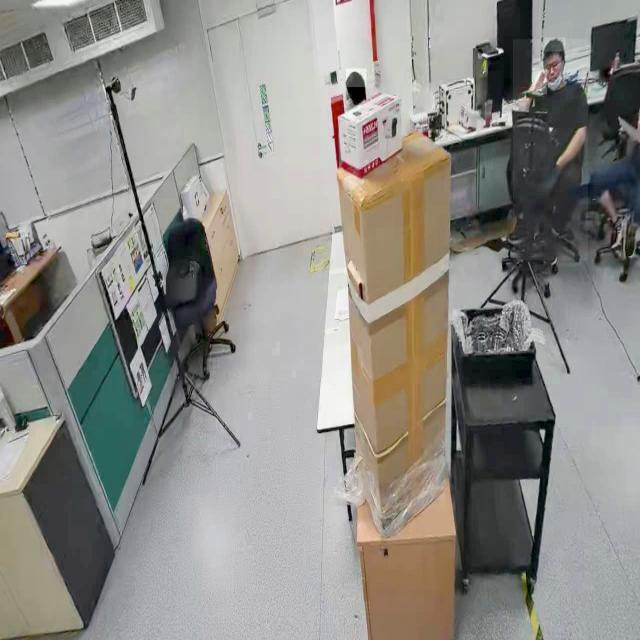face_nomask: (545, 55, 561, 84)
hand_noglove: (532, 69, 547, 95)
head_nohelmet: (346, 68, 366, 88), (544, 38, 566, 52)
person: (512, 39, 588, 261)
shoes: (609, 217, 627, 251)
